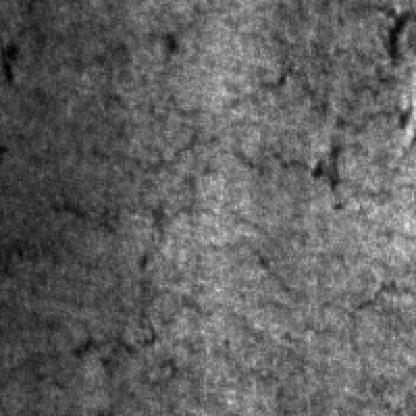crazing: (231, 48, 416, 204), (60, 92, 216, 242), (40, 264, 214, 358)
